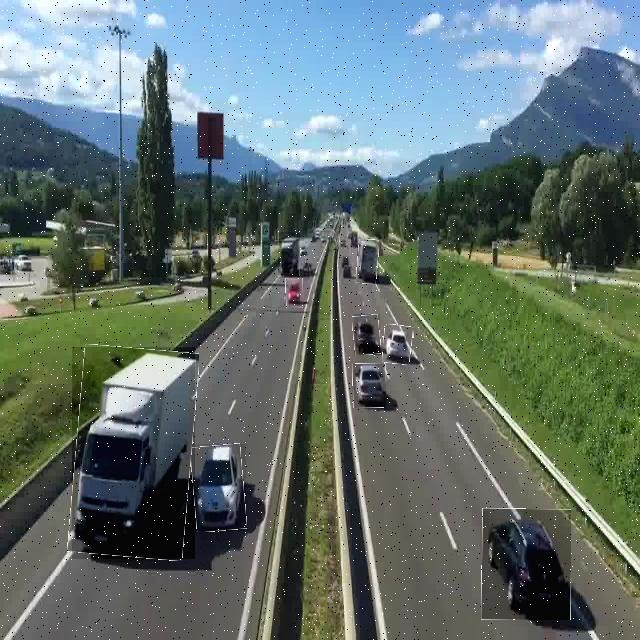Car: (482, 509, 571, 620), (192, 444, 246, 531), (353, 364, 386, 408), (384, 326, 414, 364), (354, 314, 380, 355), (286, 278, 303, 308)
Truck: (72, 347, 195, 559), (357, 240, 379, 284), (278, 232, 300, 276)
